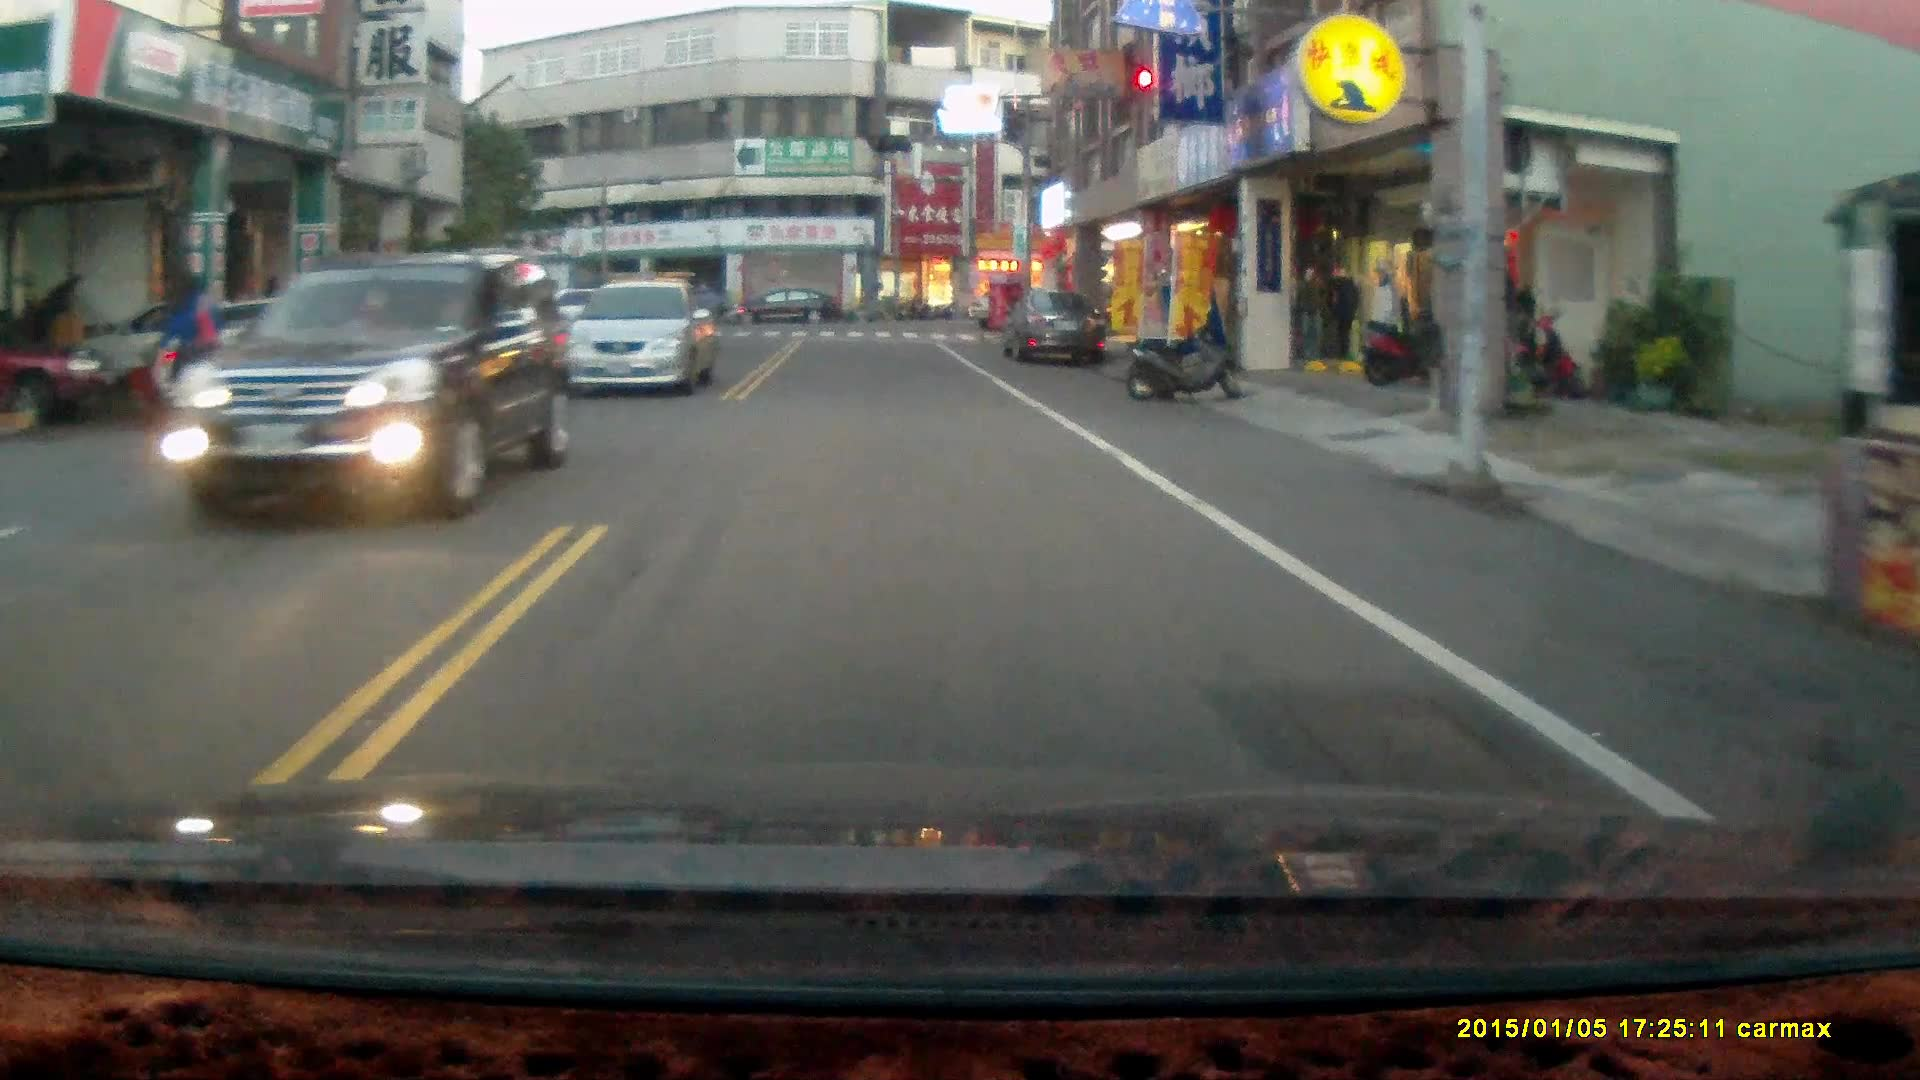pedestrian: (167, 264, 215, 421)
vehicle: (183, 249, 571, 520), (573, 278, 713, 397), (998, 286, 1108, 371), (728, 288, 845, 333)
